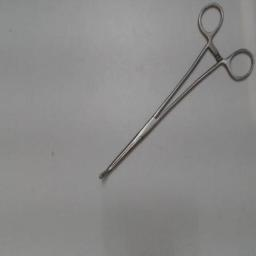Lahey Forceps: (94, 0, 254, 190)
